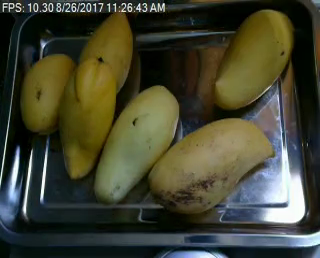Mango: (145, 116, 273, 214), (92, 84, 182, 204), (213, 7, 294, 110), (57, 57, 114, 177), (75, 6, 133, 96), (18, 54, 74, 134)
